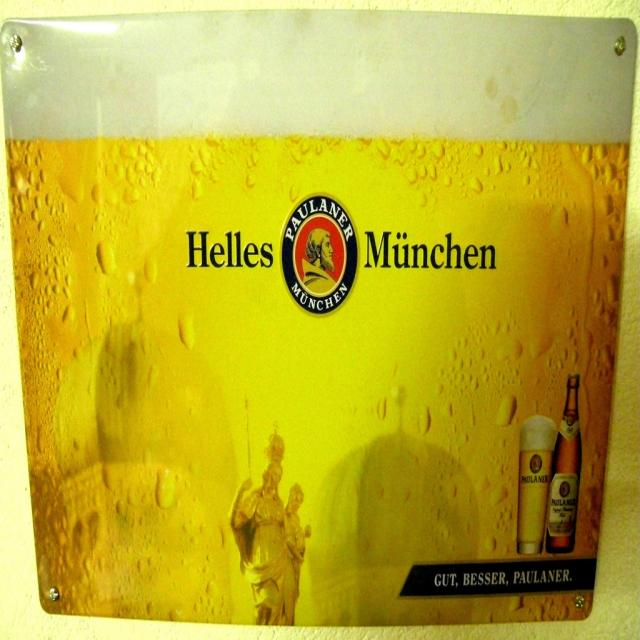paulaner: (280, 194, 358, 320)
